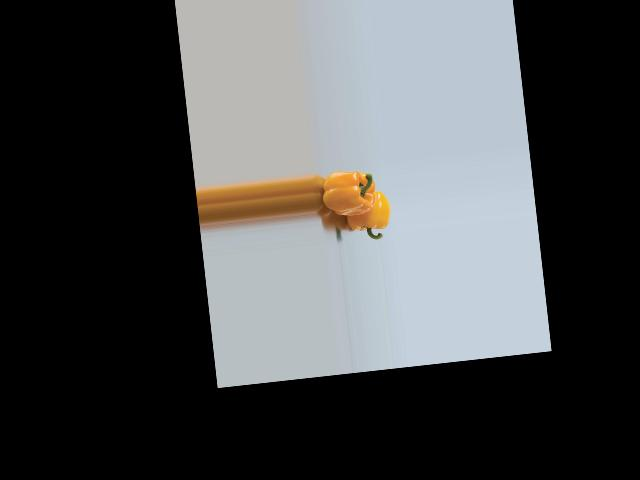bell_pepper: (336, 188, 393, 242)
